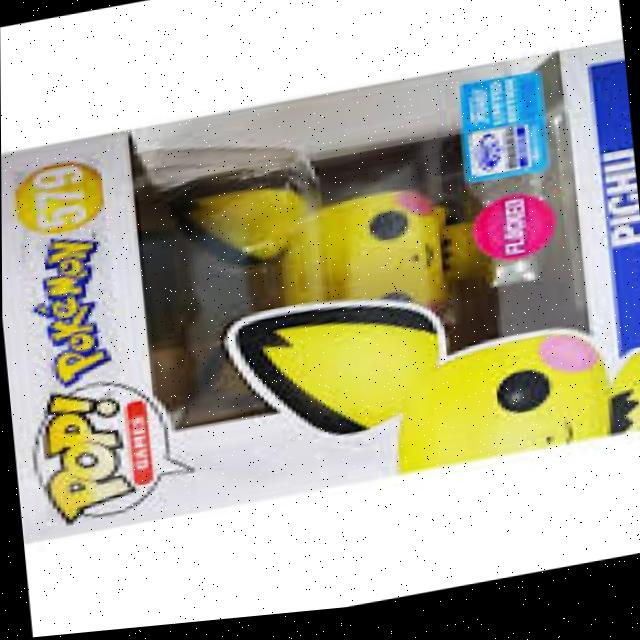pichu: (206, 266, 640, 512), (233, 165, 495, 367)
